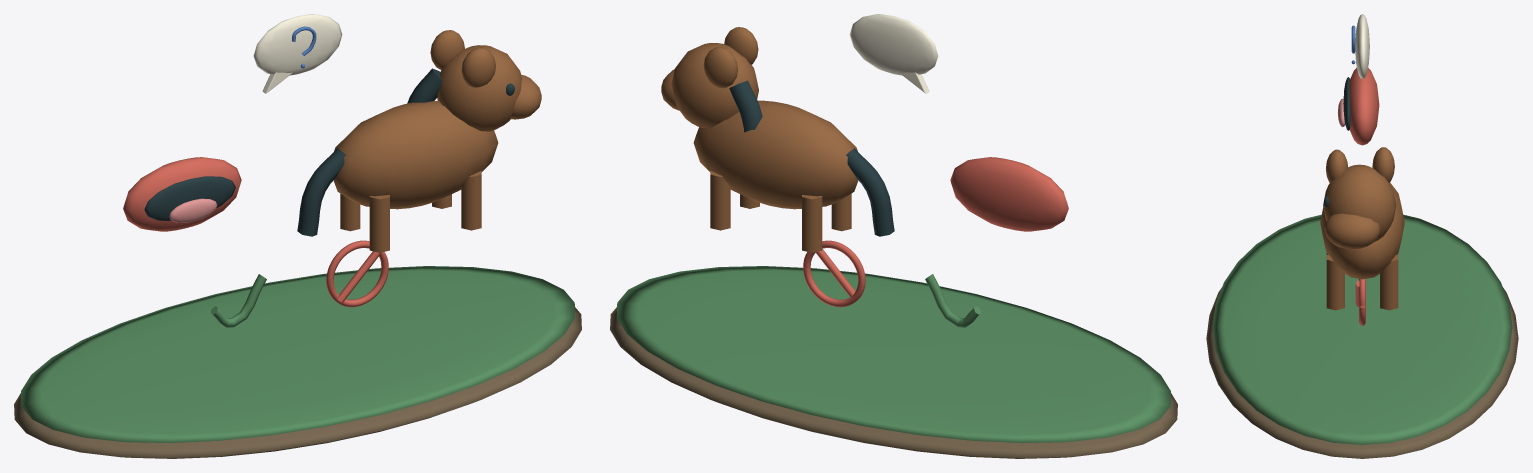
File: complete-first-horse-question.glb
3 renders of one model, left to right at view 1: azimuth 30°, elevation 25°; view 2: azimuth 150°, elevation 25°; view 3: azimuth 270°, elevation 25°, orthographic. The views are drawn at different scales.
Visible parts, largest first — view 1: complete-first-horse-question_surface_01, complete-first-horse-question_surface_05, complete-first-horse-question_surface_00, complete-first-horse-question_surface_02, complete-first-horse-question_surface_03, complete-first-horse-question_surface_06, complete-first-horse-question_surface_04; view 2: complete-first-horse-question_surface_01, complete-first-horse-question_surface_05, complete-first-horse-question_surface_00, complete-first-horse-question_surface_02, complete-first-horse-question_surface_06, complete-first-horse-question_surface_03; view 3: complete-first-horse-question_surface_01, complete-first-horse-question_surface_05, complete-first-horse-question_surface_00, complete-first-horse-question_surface_02, complete-first-horse-question_surface_06, complete-first-horse-question_surface_03.
Part boxes in pixels (x1,y1,x2,y2): complete-first-horse-question_surface_01: [21, 266, 574, 443]; complete-first-horse-question_surface_05: [333, 30, 541, 252]; complete-first-horse-question_surface_00: [14, 307, 581, 458]; complete-first-horse-question_surface_02: [123, 157, 388, 307]; complete-first-horse-question_surface_03: [144, 68, 514, 236]; complete-first-horse-question_surface_06: [253, 14, 342, 93]; complete-first-horse-question_surface_04: [169, 198, 217, 222]; complete-first-horse-question_surface_01: [617, 266, 1170, 443]; complete-first-horse-question_surface_05: [661, 27, 858, 252]; complete-first-horse-question_surface_00: [610, 307, 1177, 458]; complete-first-horse-question_surface_02: [803, 157, 1068, 307]; complete-first-horse-question_surface_06: [849, 14, 938, 93]; complete-first-horse-question_surface_03: [729, 80, 894, 236]; complete-first-horse-question_surface_01: [1212, 214, 1512, 444]; complete-first-horse-question_surface_05: [1320, 147, 1404, 310]; complete-first-horse-question_surface_00: [1206, 287, 1518, 458]; complete-first-horse-question_surface_02: [1349, 67, 1379, 325]; complete-first-horse-question_surface_06: [1355, 14, 1369, 78]; complete-first-horse-question_surface_03: [1324, 77, 1350, 207].
Size of the model in its own units: 4.56 by 2.94 by 2.5.
